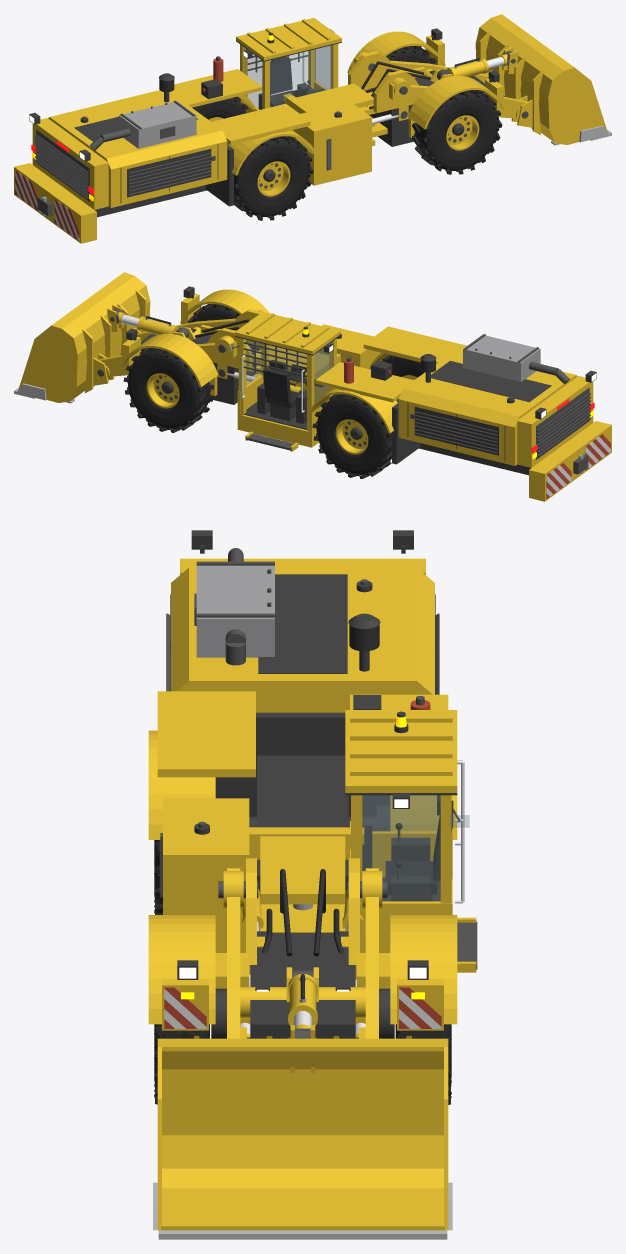
The model's file is underground_loader.glb.
3 views of the same model, one above another, from view 1: azimuth 30°, elevation 25°; view 2: azimuth 150°, elevation 25°; view 3: azimuth 270°, elevation 25° (orthographic). The views are drawn at different scales.
Parts seen in each view (by area): view 1: rear_frame, bucket_tilt, hitch_rotate, cab, wheel_front_right_spin, wheel_rear_right_spin, boom_tilt, wheel_rear_left_spin, bucket_tilt_cylinder_rotate, wheel_front_left_spin; view 2: rear_frame, cab, bucket_tilt, hitch_rotate, wheel_front_left_spin, wheel_rear_left_spin, boom_tilt, wheel_front_right_spin, wheel_rear_right_spin, bucket_tilt_cylinder_rotate; view 3: rear_frame, bucket_tilt, hitch_rotate, cab, boom_tilt, bucket_tilt_cylinder_rotate.
Boxes of the visible parts, x1,y1,x2,y2 form: rear_frame: (14,56,375,243); bucket_tilt: (475,14,611,145); hitch_rotate: (347,28,505,146); cab: (236,18,341,112); wheel_front_right_spin: (412,90,502,174); wheel_rear_right_spin: (234,136,313,220); boom_tilt: (354,52,528,119); wheel_rear_left_spin: (192,96,248,121); bucket_tilt_cylinder_rotate: (437,58,488,79); wheel_front_left_spin: (386,46,437,64); rear_frame: (252,324,611,501); cab: (229,312,340,451); bucket_tilt: (14,272,150,403); hitch_rotate: (120,286,269,404); wheel_front_left_spin: (123,348,213,432); wheel_rear_left_spin: (312,394,391,478); boom_tilt: (97,310,266,377); wheel_front_right_spin: (188,304,239,322); wheel_rear_right_spin: (382,354,424,379); bucket_tilt_cylinder_rotate: (137,316,188,337); rear_frame: (148,530,457,952); bucket_tilt: (153,1025,452,1239); hitch_rotate: (148,858,457,1038); cab: (345,710,477,979); boom_tilt: (218,868,387,1038); bucket_tilt_cylinder_rotate: (288,970,317,1026).
Bounding box in the file's own units: 11.01 × 2.52 × 2.94.
17 materials, 17 textured.
